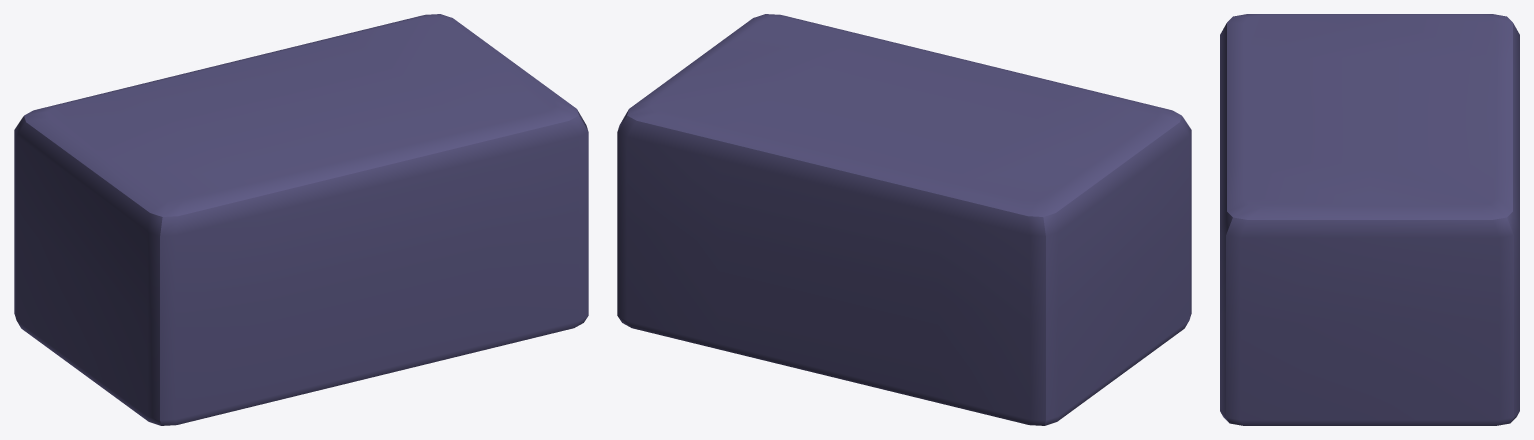
Rendered from BrickBrick_L.fbx.
The picture shows the model from 3 angles, left to right: view 1: azimuth 30°, elevation 25°; view 2: azimuth 150°, elevation 25°; view 3: azimuth 270°, elevation 25°; orthographic projection.
Visible parts, largest first — view 1: Brick_L; view 2: Brick_L; view 3: Brick_L.
Part boxes in pixels (x1=…): Brick_L: x1=14, y1=14, x2=588, y2=425; Brick_L: x1=617, y1=14, x2=1191, y2=425; Brick_L: x1=1220, y1=14, x2=1519, y2=425.
Size of the model in its own units: 1.71 by 0.8059 by 1.02.
